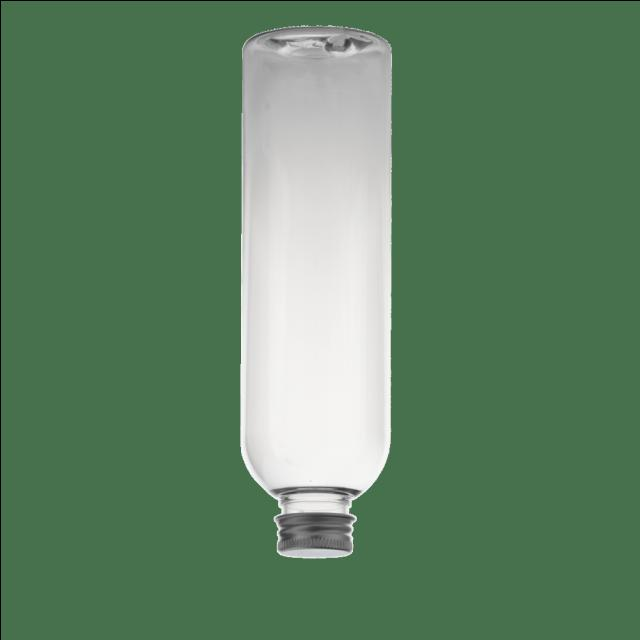bottom: (232, 27, 400, 74)
cap: (267, 505, 371, 563)
